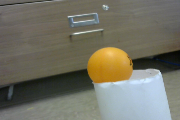PingPongBall: (87, 47, 133, 85)
